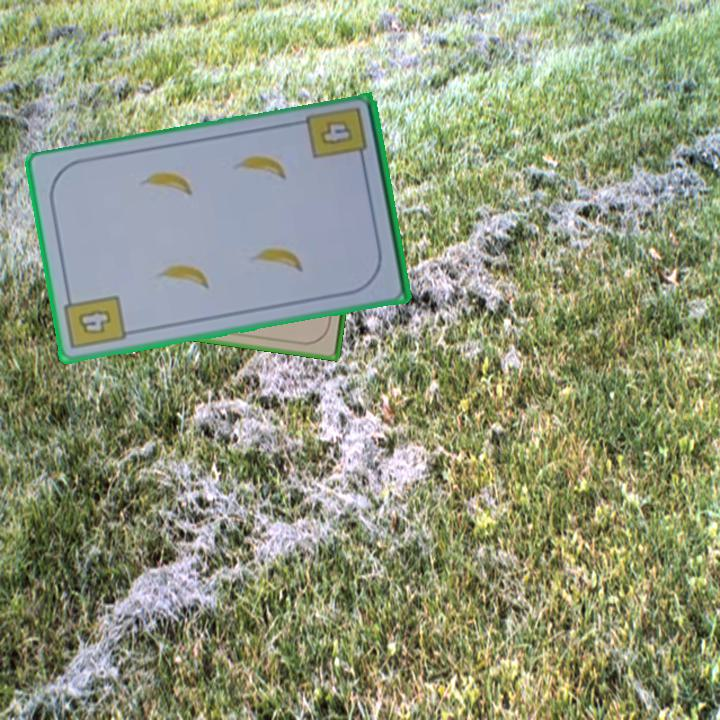4b: (303, 103, 371, 168), (61, 289, 129, 353)
